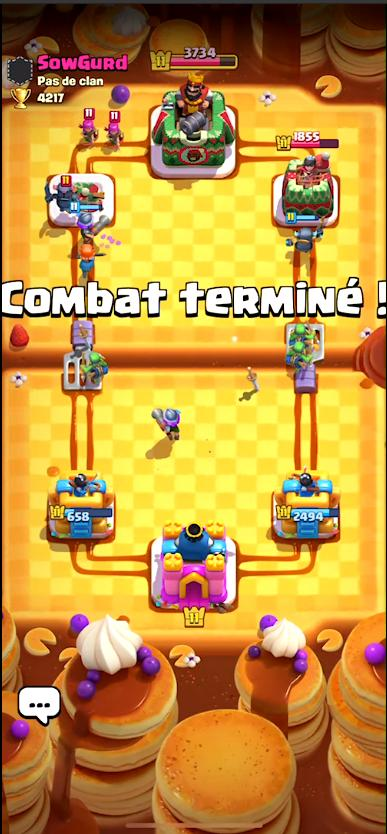archere: (105, 110, 126, 145), (80, 108, 98, 141)
gobelin_lances: (284, 342, 313, 369), (83, 351, 106, 382), (290, 320, 317, 346)
mini_PEKKA: (279, 214, 327, 256), (45, 175, 78, 210)
mousquetaire: (70, 203, 109, 241), (153, 406, 182, 443)
valkyrie: (72, 239, 102, 275)
